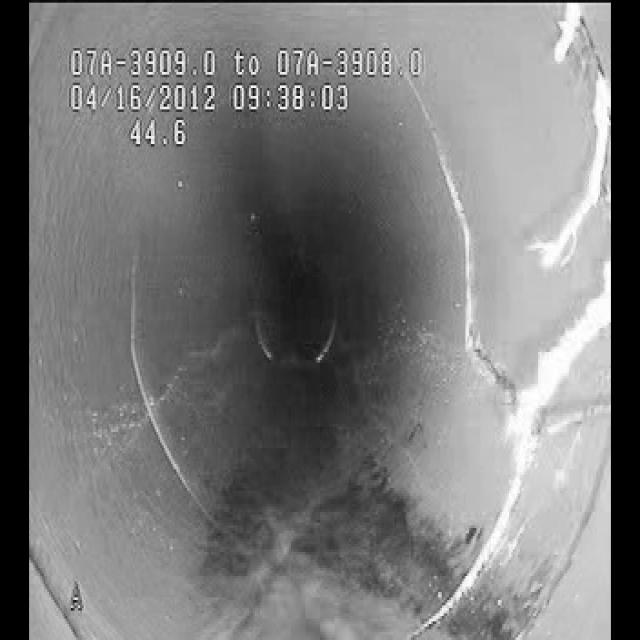Crack: (416, 98, 538, 418)
